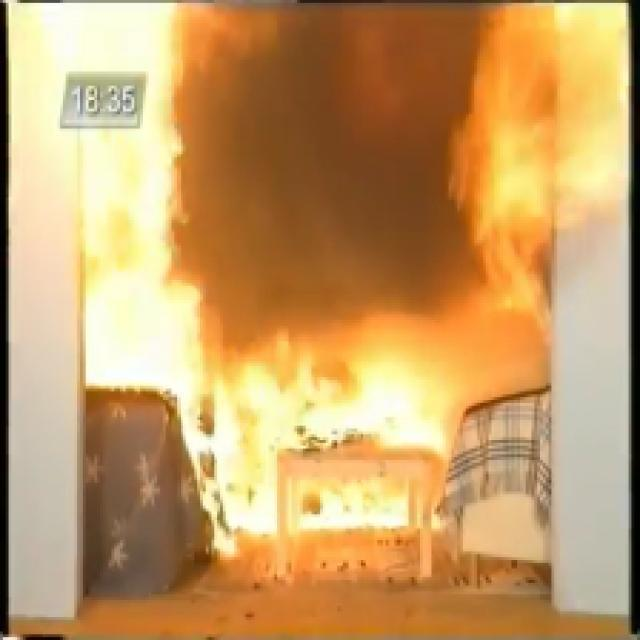Fire: (57, 22, 176, 400), (214, 356, 450, 444)
